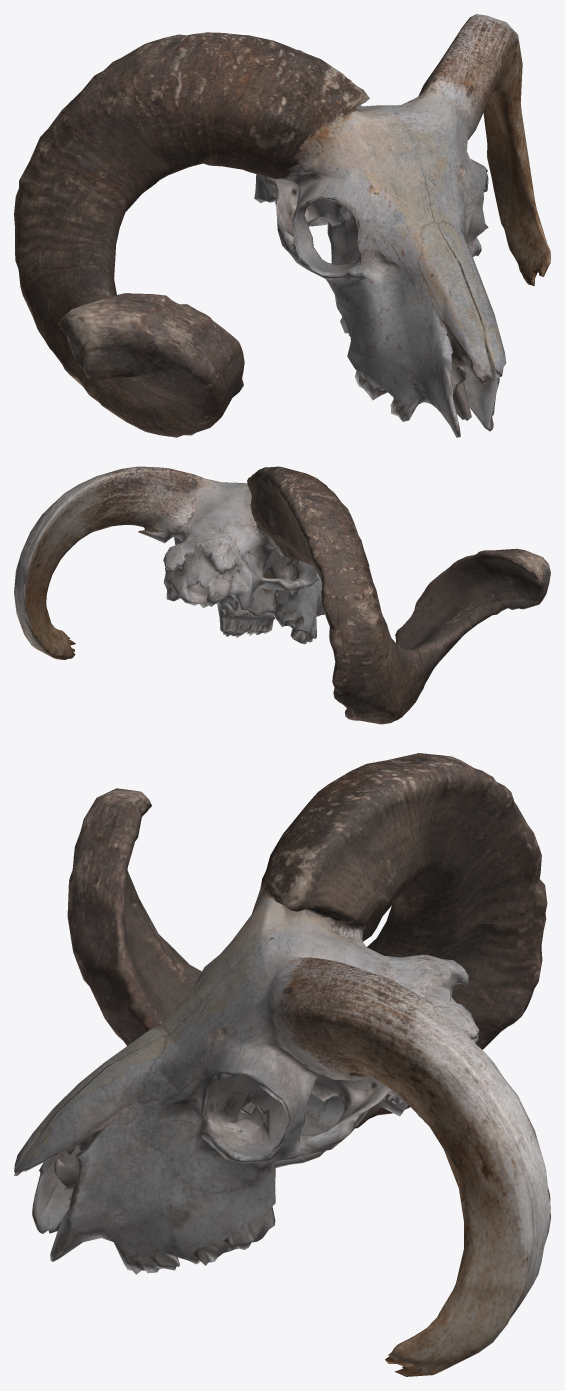
File: schaedel.glb
3 views of the same model, one above another, from view 1: azimuth 30°, elevation 25°; view 2: azimuth 150°, elevation 25°; view 3: azimuth 270°, elevation 25° (orthographic). The views are drawn at different scales.
Visible parts, largest first — view 1: wk5idfu_LOD0_TIER2_000_MatID_1_0; view 2: wk5idfu_LOD0_TIER2_000_MatID_1_0; view 3: wk5idfu_LOD0_TIER2_000_MatID_1_0.
Boxes of the visible parts, box(x1,y1,x2,y2) form: wk5idfu_LOD0_TIER2_000_MatID_1_0: box(14, 14, 550, 437); wk5idfu_LOD0_TIER2_000_MatID_1_0: box(14, 466, 550, 724); wk5idfu_LOD0_TIER2_000_MatID_1_0: box(14, 753, 550, 1376).
Bounding box in the file's own units: 0.4162 × 0.2172 × 0.2537.
Materials: 1 (1 with a texture image).
